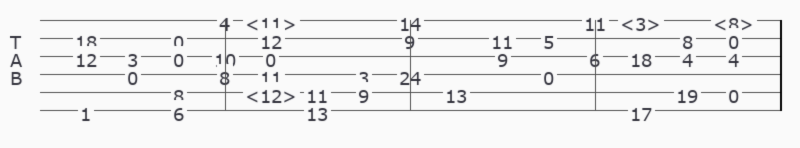0: (127, 66, 142, 83), (173, 30, 188, 47), (173, 48, 188, 65), (265, 48, 280, 65), (543, 66, 558, 83), (728, 84, 743, 101), (728, 30, 743, 47)
1: (80, 102, 95, 119)
10: (214, 48, 240, 65)
11: (260, 66, 286, 83), (306, 84, 332, 101), (491, 30, 517, 47), (584, 12, 610, 29)
12: (75, 48, 101, 65), (260, 30, 286, 47)
13: (306, 102, 332, 119), (445, 84, 471, 101)
14: (399, 12, 425, 29)
17: (630, 102, 656, 119)
18: (75, 30, 101, 47), (630, 48, 656, 65)
19: (676, 84, 702, 101)
24: (399, 66, 425, 83)
3: (127, 48, 142, 65), (358, 66, 373, 83)
4: (219, 12, 234, 29), (682, 48, 697, 65), (728, 48, 743, 65)
5: (543, 30, 558, 47)
6: (173, 102, 188, 119), (589, 48, 604, 65)
8: (173, 84, 188, 101), (219, 66, 234, 83), (682, 30, 697, 47)
9: (358, 84, 373, 101), (404, 30, 419, 47), (497, 48, 512, 65)
harmonic: (245, 12, 301, 29), (245, 84, 301, 101), (620, 12, 665, 29), (713, 12, 758, 29)
